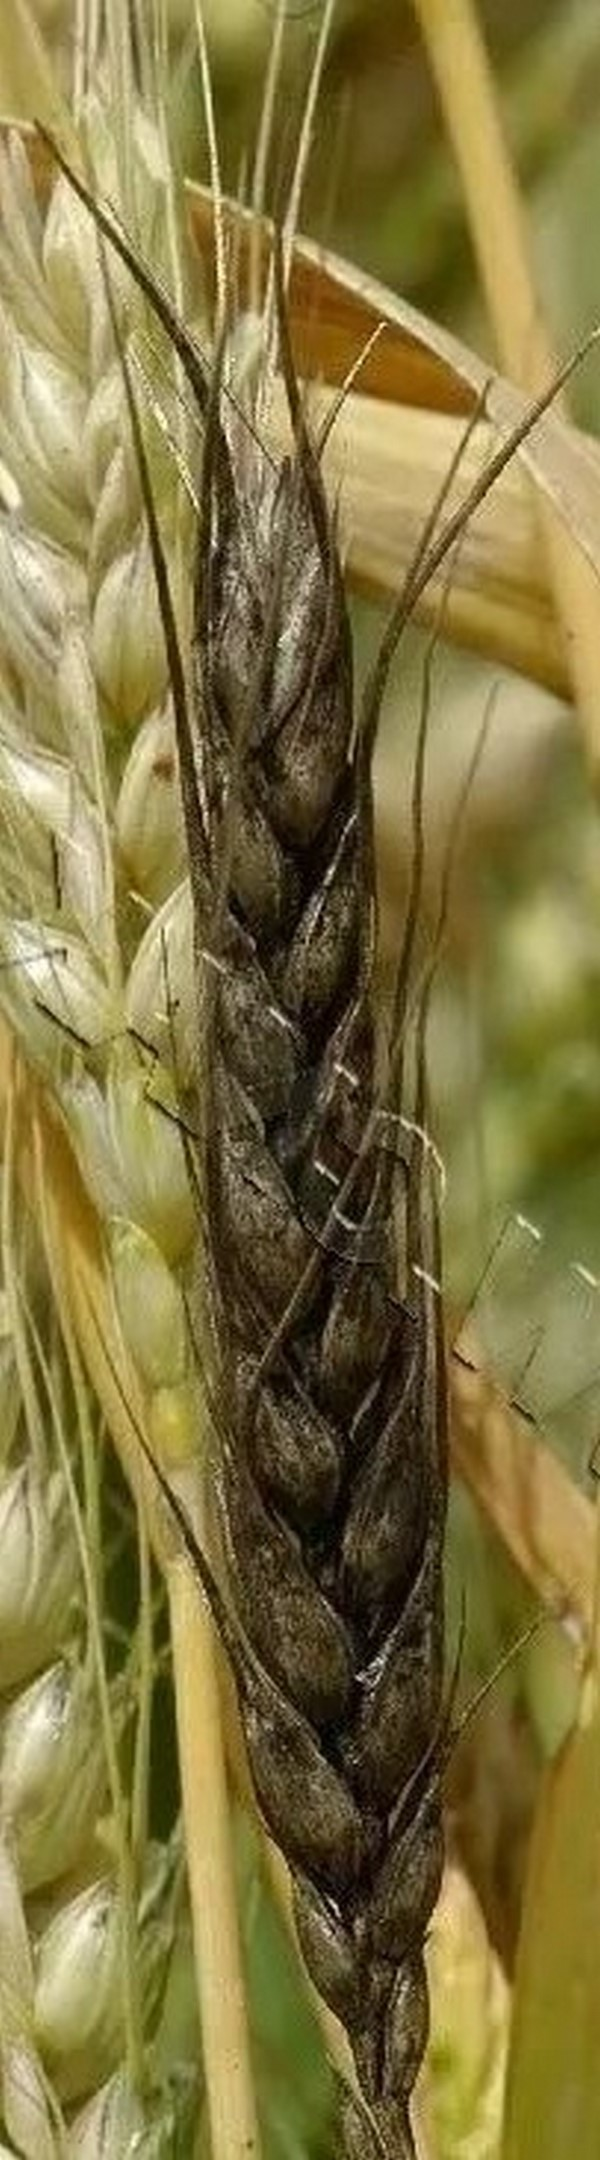Wheat Loose Smut: (129, 422, 478, 1986)
